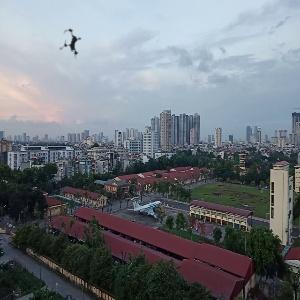drone: (48, 20, 96, 68)
